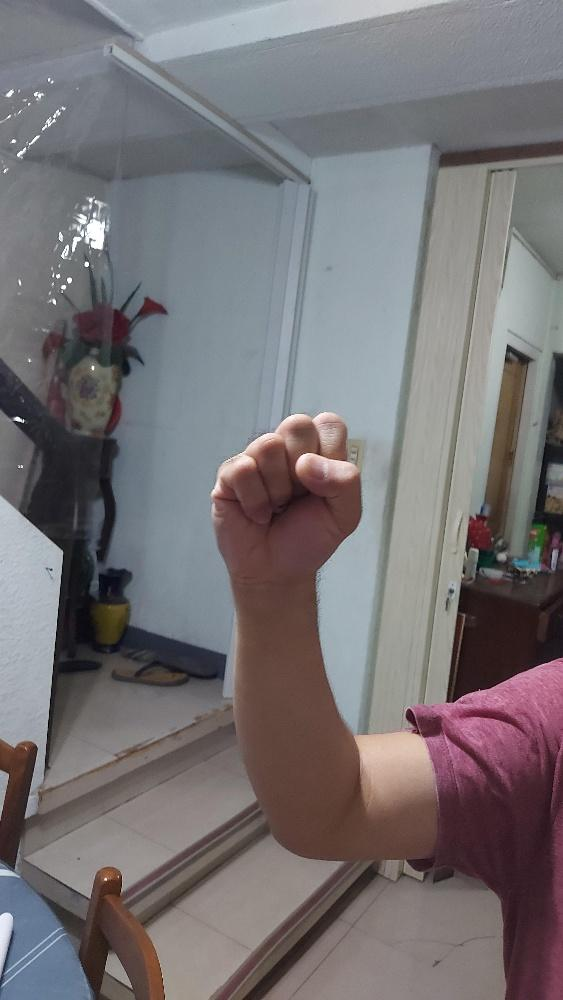s: (208, 410, 362, 581)
